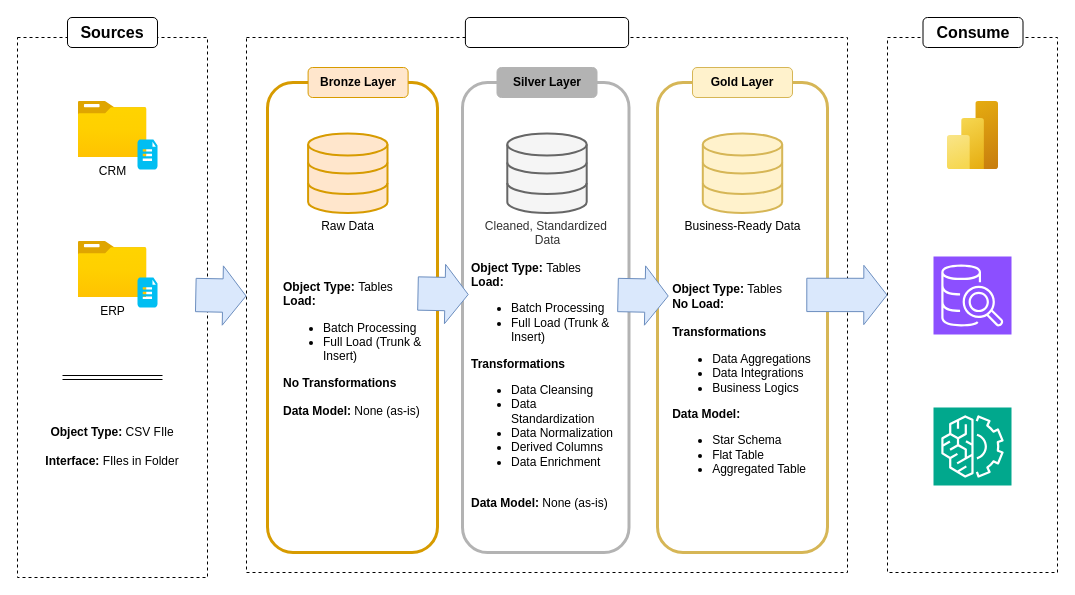
The diagram is 1075 pixels wide and 595 high, and some of its shapes have lost their labels. The centre of each missing label's shape, as x and y in pixels:
"Ad-Hoc SQL Queries" goes at [972,295].
"BI & Reporting" goes at [972,135].
"Data Warehouse" goes at [546,32].
"Machine Learning" goes at [972,446].
